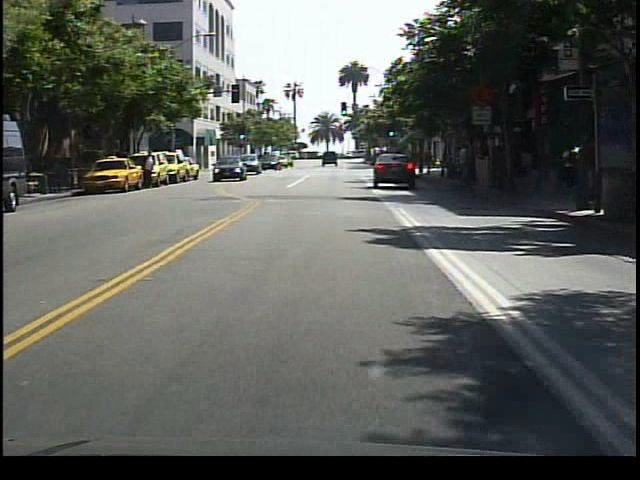person: (454, 138, 475, 197), (142, 148, 159, 194)
